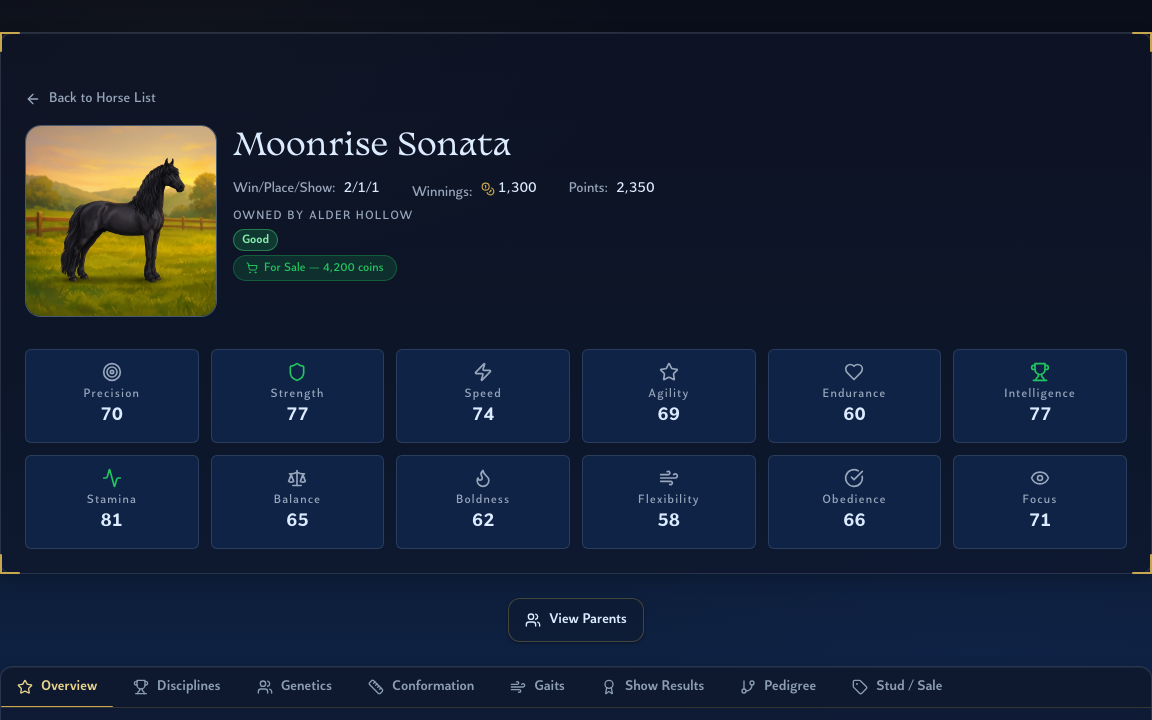
Scenario: the horse page in visitor mode is the owner page, read-only › a horse for sale carries a one-click Buy button with its price
expect the heading "Moonrise Sonata" is shown: met, box [233,131,512,163]
Click the tab "Stud / Sale". click: (898, 687)
box: [836,667,959,707]
(page scrolled)
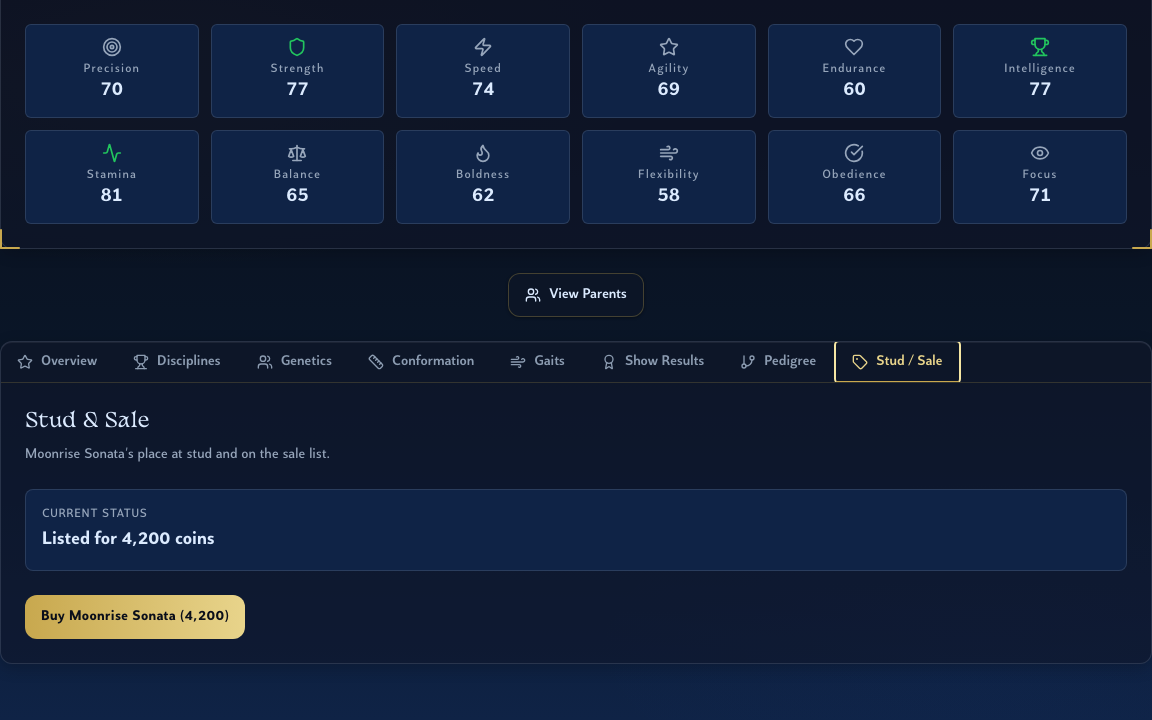
expect the button "Buy Moonrise Sonata (4,200)" is enabled: met, box [25,595,245,639]
